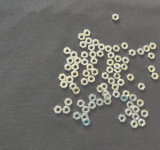nut: (73, 112, 81, 121), (63, 106, 71, 115), (54, 106, 63, 114), (77, 100, 86, 108), (88, 102, 97, 110), (89, 94, 97, 103), (72, 87, 81, 95), (138, 119, 146, 127), (131, 121, 139, 129), (119, 115, 127, 123), (132, 114, 140, 122), (141, 110, 149, 118), (133, 106, 141, 114), (125, 109, 133, 117), (137, 100, 145, 108), (113, 91, 121, 99), (83, 119, 91, 127), (65, 99, 73, 107), (96, 99, 104, 107), (69, 83, 77, 91), (60, 81, 68, 89), (66, 76, 74, 84), (59, 74, 67, 82), (81, 78, 89, 86), (83, 70, 91, 78), (71, 71, 79, 79), (74, 57, 82, 65), (78, 33, 86, 41), (82, 107, 91, 114), (151, 73, 160, 80), (81, 114, 89, 121), (104, 98, 112, 105), (104, 94, 112, 101), (102, 91, 110, 98), (97, 86, 104, 94), (101, 83, 108, 91), (112, 84, 120, 91), (138, 84, 146, 91), (148, 66, 156, 73), (118, 79, 125, 87), (109, 78, 116, 86), (114, 73, 122, 80), (127, 74, 135, 81), (88, 76, 96, 83), (72, 63, 79, 71), (65, 64, 72, 72), (67, 57, 74, 65), (70, 52, 78, 59), (64, 48, 72, 55), (81, 59, 89, 66), (107, 59, 114, 67), (148, 53, 156, 60), (129, 49, 136, 57), (115, 56, 123, 63), (108, 52, 115, 60), (113, 45, 121, 52), (105, 46, 113, 53), (89, 51, 97, 58), (81, 52, 89, 59), (98, 44, 106, 51), (88, 44, 96, 51), (80, 41, 87, 49), (93, 39, 100, 47), (127, 102, 134, 109), (130, 95, 137, 102), (121, 95, 128, 102), (123, 91, 130, 98), (102, 73, 109, 80), (92, 69, 99, 76), (87, 64, 94, 71), (107, 67, 114, 74), (121, 64, 128, 71), (114, 63, 121, 70), (150, 43, 157, 50), (122, 43, 129, 50), (91, 58, 98, 65), (97, 51, 104, 58), (86, 38, 93, 45), (84, 30, 91, 37), (113, 14, 120, 21), (114, 68, 122, 74), (137, 49, 145, 55), (122, 58, 130, 64), (144, 46, 151, 52)
